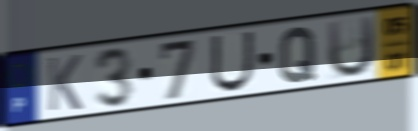3: (92, 45, 136, 110)
7: (157, 39, 199, 102)
K: (45, 53, 84, 114)
Q: (277, 24, 318, 85)
U: (325, 13, 376, 81), (208, 29, 256, 95)
